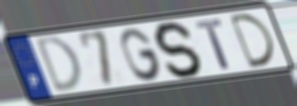7: (74, 30, 120, 90)
D: (34, 34, 87, 96), (226, 11, 276, 70)
G: (119, 26, 165, 83)
S: (153, 20, 205, 80)
T: (193, 17, 233, 72)
